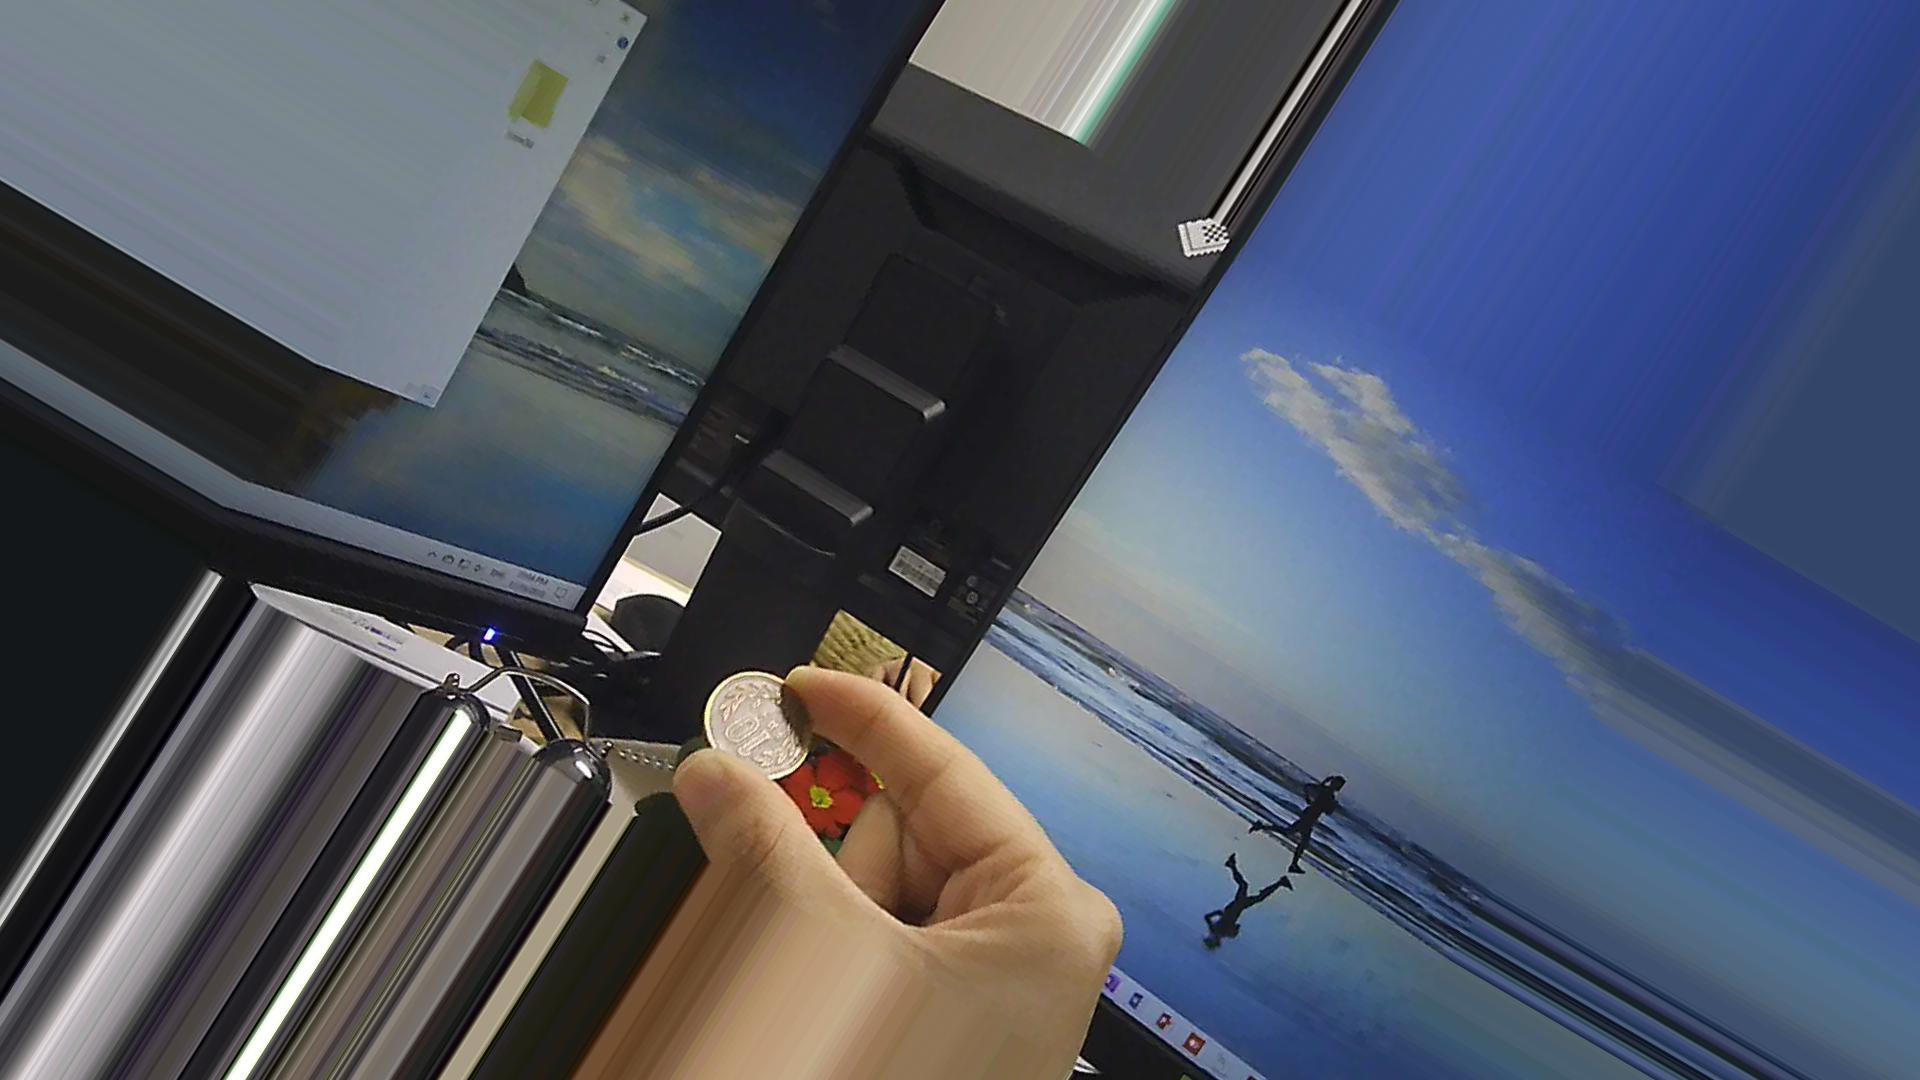10 Yen: (687, 671, 833, 799)
